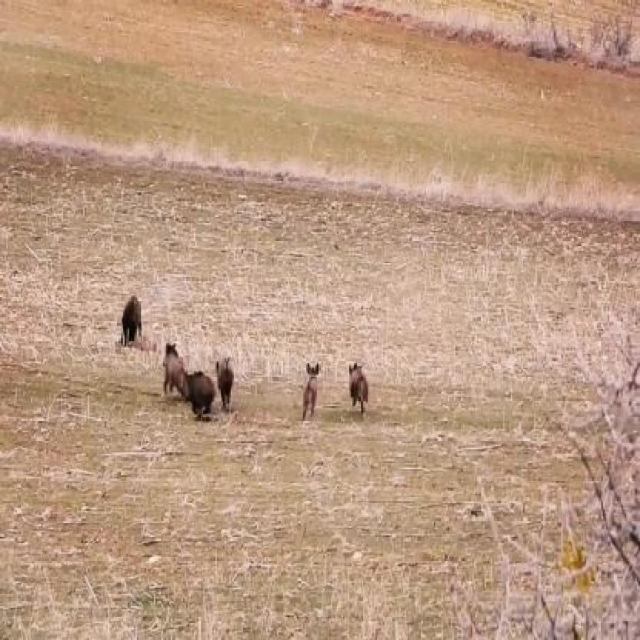pig: (115, 272, 150, 362), (344, 338, 378, 428), (297, 343, 320, 432), (183, 358, 210, 429), (162, 329, 186, 408), (212, 340, 233, 413)
